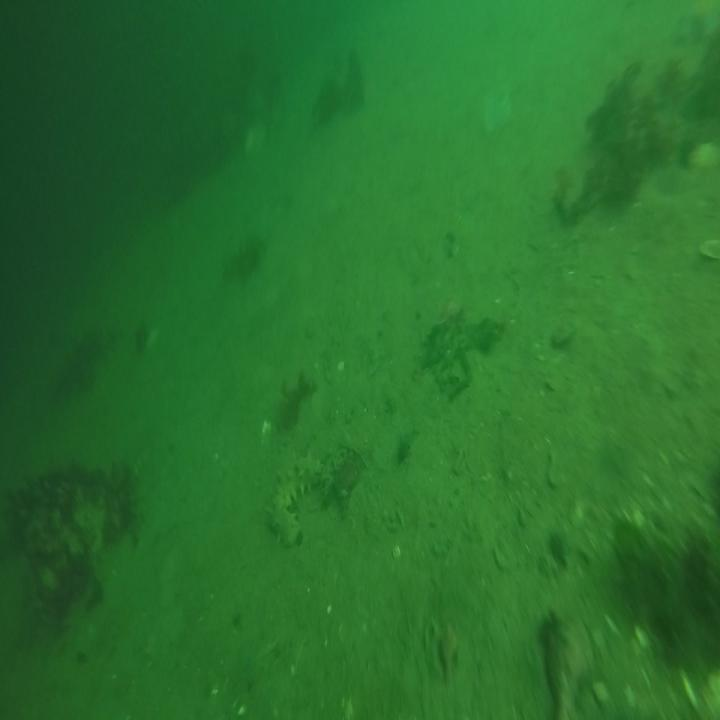holothurian: (260, 450, 337, 546)
